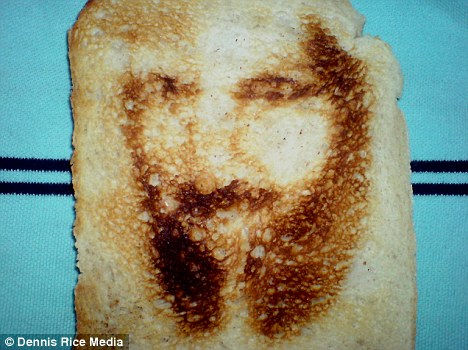slice of bread: (60, 1, 420, 350)
